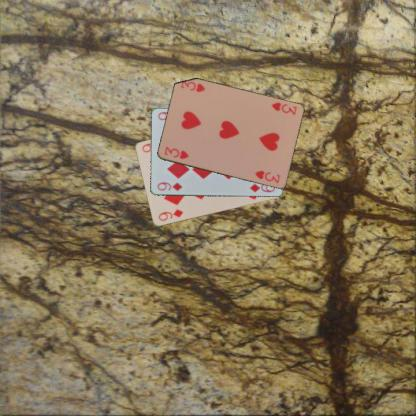3h: (268, 100, 298, 116), (162, 144, 189, 160)
9d: (156, 207, 184, 222), (155, 180, 184, 192)
